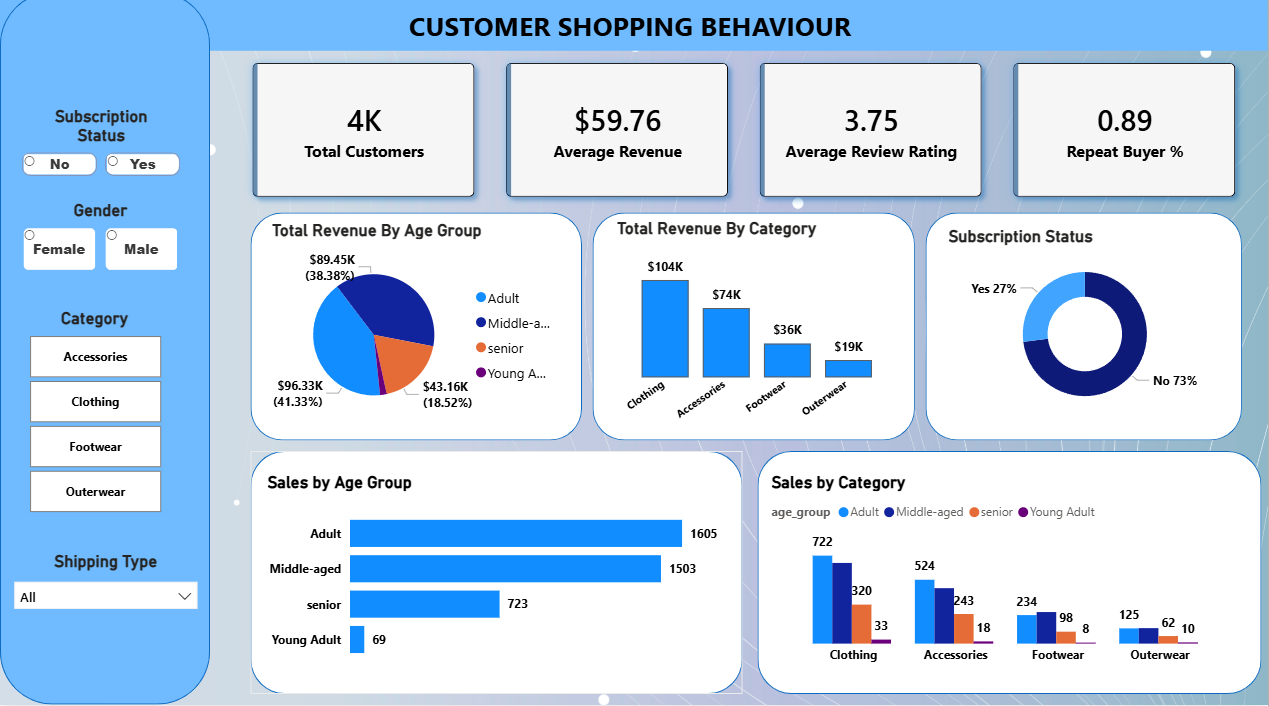

What the dashboard file says about the page in this screenshot:
{"tool":"powerbi","page":{"name":"Dashboard","canvas":[1280,720],"ordinal":0},"visuals":[{"type":"cardVisual","fields":{"Data":["MeasureTable.Total Customers","MeasureTable.Total Revenue","MeasureTable.Avg Review Rating","MeasureTable.Repeat Buyer %"]},"box":[225.6,42.4,1053.9,193.8],"z":0},{"type":"textbox","box":[0,0,1279.5,59.1],"z":1000},{"type":"shape","box":[252.9,222.6,334.6,230.2],"z":2000},{"type":"pieChart","title":"Total Revenue By Age Group","fields":{"Category":["public customer.age_group"],"Y":["Sum(public customer.purchased_amount)"]},"box":[269.5,230.2,302.8,210.5],"z":3000},{"type":"shape","box":[934.3,222.6,319.5,230.2],"z":4000},{"type":"shape","box":[598.1,222.6,325.6,230.2],"z":5000},{"type":"donutChart","title":"Subscription Status","fields":{"Category":["public customer.subscription_status"],"Y":["CountNonNull(public customer.subscription_status)"]},"box":[952.4,236.2,284.7,196.8],"z":6000},{"type":"columnChart","title":"Total Revenue By Category","fields":{"Category":["public customer.category"],"Y":["Sum(public customer.purchased_amount)"]},"box":[617.8,228.6,293.8,212],"z":7000},{"type":"shape","box":[0,0,212,719.2],"z":8000},{"type":"advancedSlicerVisual","title":"Subscription Status","fields":{"Values":["public customer.subscription_status"]},"box":[16.7,115.1,171.1,75.7],"z":9000},{"type":"advancedSlicerVisual","title":"Gender","fields":{"Values":["public customer.gender"]},"box":[16.7,210.5,169.6,75.7],"z":10000},{"type":"slicer","title":"Category","fields":{"Values":["public customer.category"]},"box":[4.5,319.5,181.7,212],"z":11000},{"type":"slicer","title":"Shipping Type","fields":{"Values":["public customer.shipping_type"]},"box":[4.5,564.8,204.4,92.4],"z":12000},{"type":"shape","box":[252.9,463.3,496.7,245.3],"z":13000},{"type":"shape","box":[764.7,463.3,508.8,245.3],"z":14501},{"type":"clusteredColumnChart","title":"Sales by Category","fields":{"Category":["public customer.category"],"Y":["CountNonNull(public customer.category)"],"Series":["public customer.age_group"]},"box":[773.8,484.5,484.5,202.9],"z":16001},{"type":"barChart","title":"Sales by Age Group","fields":{"Category":["public customer.age_group"],"Y":["CountNonNull(public customer.purchased_amount)"]},"box":[265,484.5,467.9,202.9],"z":16002}]}

Visuals, with their boxes in screenshot pixels (x1, y1, x2, y2), scaled from the page's 1280x720 canvas onto the 1269x706 screenshot:
cardVisual - MeasureTable.Total Customers x MeasureTable.Total Revenue: 224 42 1268 232
textbox: 0 0 1268 58
shape: 251 218 582 444
"Total Revenue By Age Group" pieChart: 267 226 567 432
shape: 926 218 1243 444
shape: 593 218 916 444
"Subscription Status" donutChart: 944 232 1226 425
"Total Revenue By Category" columnChart: 612 224 904 432
shape: 0 0 210 705
"Subscription Status" advancedSlicerVisual: 17 113 186 187
"Gender" advancedSlicerVisual: 17 206 185 281
"Category" slicer: 4 313 185 521
"Shipping Type" slicer: 4 554 207 644
shape: 251 454 743 695
shape: 758 454 1263 695
"Sales by Category" clusteredColumnChart: 767 475 1247 674
"Sales by Age Group" barChart: 263 475 727 674
